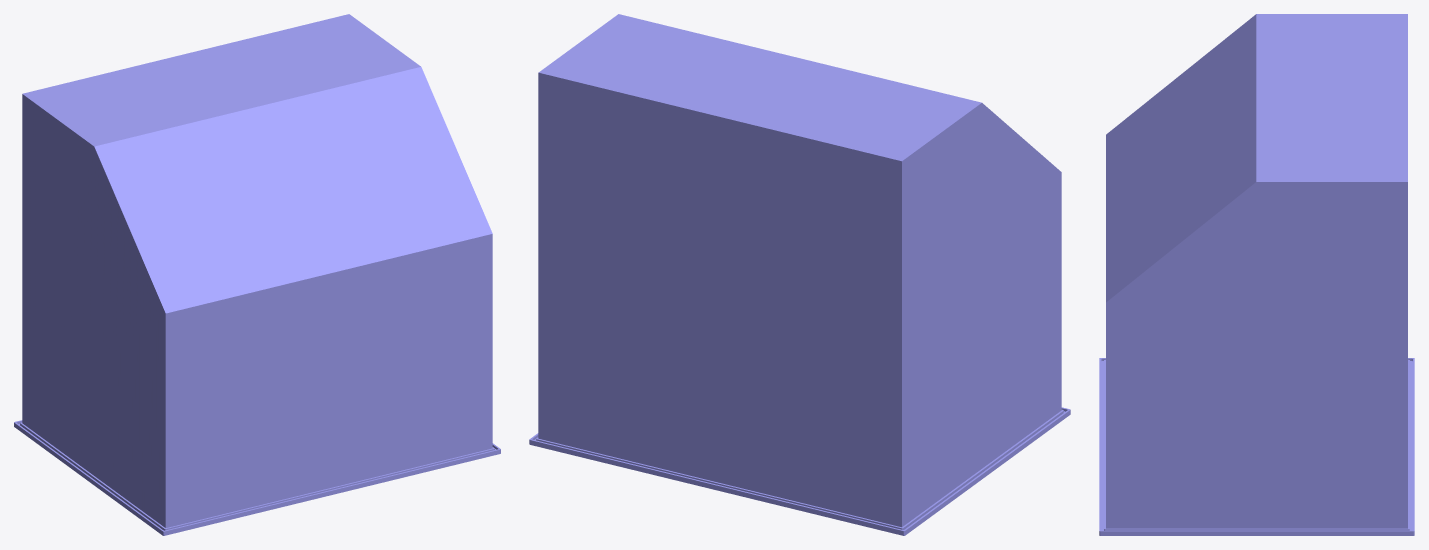
File: SCA_Type1_Full.FBX
3 renders of one model, left to right at view 1: azimuth 30°, elevation 25°; view 2: azimuth 150°, elevation 25°; view 3: azimuth 270°, elevation 25°, orthographic. The views are drawn at different scales.
Visible parts, largest first — view 1: PartBody; view 2: PartBody; view 3: PartBody.
Boxes of the visible parts, bbox=[...] form: PartBody: bbox=[14, 14, 500, 535]; PartBody: bbox=[529, 14, 1070, 535]; PartBody: bbox=[1099, 14, 1414, 535].
Bounding box in the file's own units: 318 × 244 × 300.
